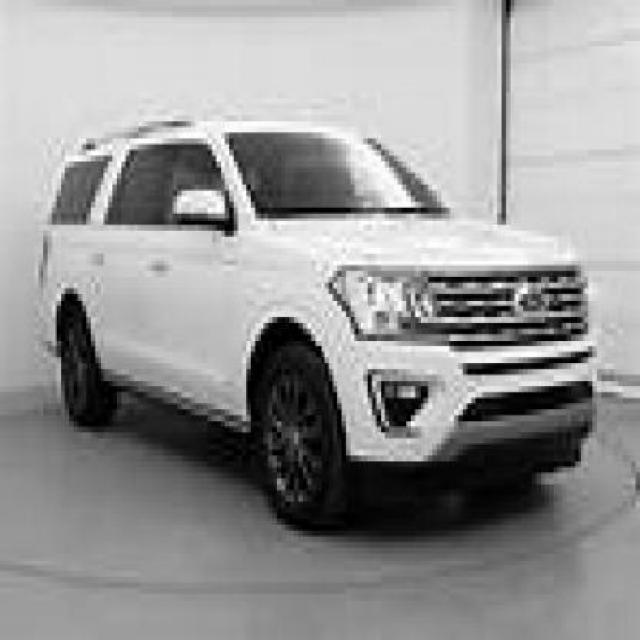SUV: (37, 120, 595, 527)
